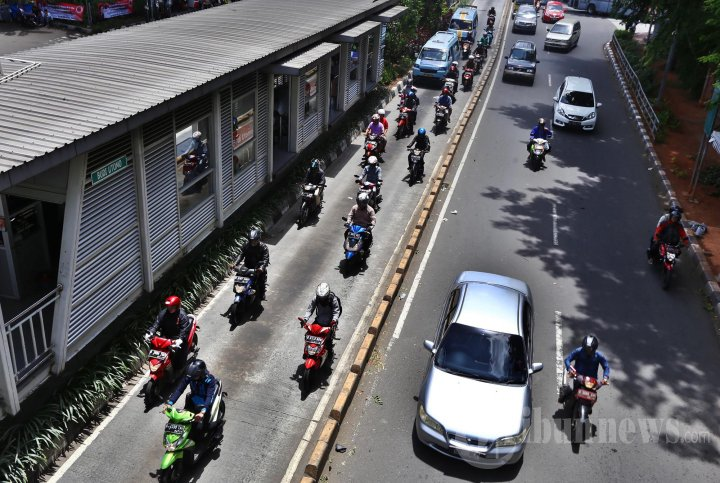car: (413, 269, 535, 477), (552, 71, 596, 135), (414, 28, 459, 90), (500, 40, 538, 89), (447, 5, 478, 50), (545, 17, 582, 54), (512, 5, 538, 34), (543, 1, 565, 23)
motorbike: (163, 364, 238, 483), (143, 300, 206, 404), (562, 336, 603, 450), (227, 227, 274, 326), (304, 284, 341, 398), (650, 202, 687, 286), (343, 197, 375, 273), (294, 162, 327, 231), (358, 159, 383, 216), (406, 128, 430, 187), (527, 118, 551, 171), (363, 115, 386, 163), (433, 86, 454, 136), (397, 92, 418, 140), (445, 58, 459, 99), (401, 77, 416, 110), (463, 53, 476, 91), (473, 41, 485, 74), (462, 32, 474, 58), (481, 31, 491, 60), (486, 21, 495, 46), (488, 6, 496, 27)
